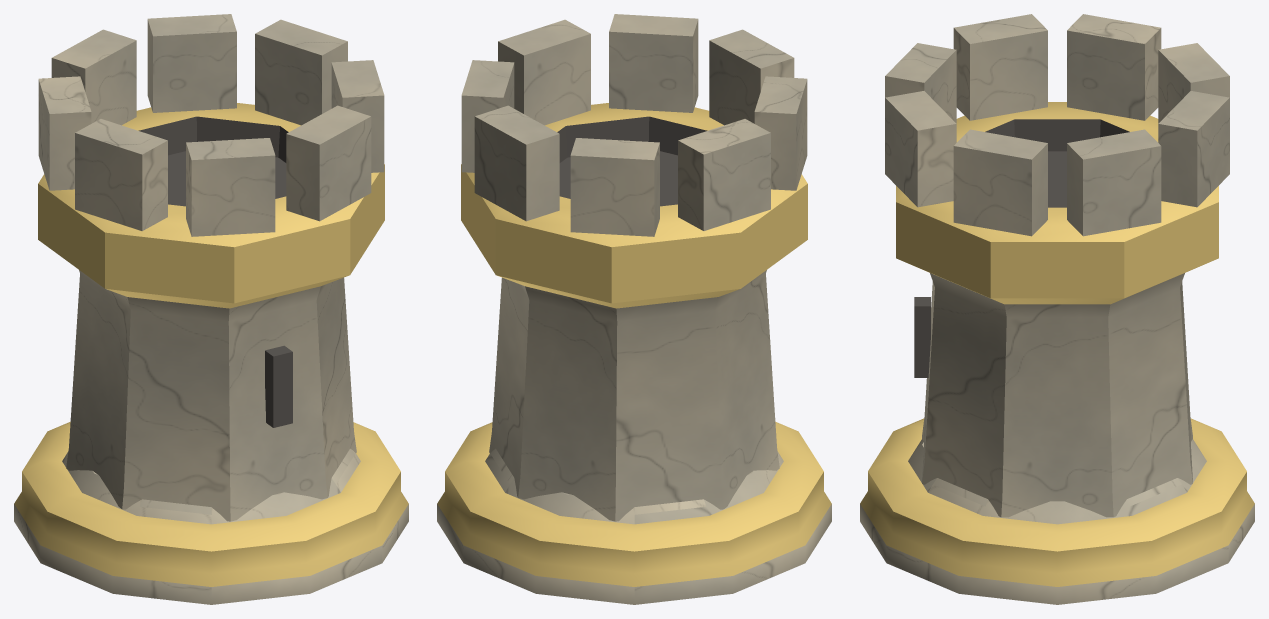
Rendered from rook_light_lod1.glb.
3 views of the same model, side by side, from view 1: azimuth 30°, elevation 25°; view 2: azimuth 150°, elevation 25°; view 3: azimuth 270°, elevation 25° (orthographic).
Parts seen in each view (by area): view 1: Piece_Rook_Light_Mesh; view 2: Piece_Rook_Light_Mesh; view 3: Piece_Rook_Light_Mesh.
Part boxes in pixels (<box>): Piece_Rook_Light_Mesh: <box>14,14,408,604</box>; Piece_Rook_Light_Mesh: <box>437,14,831,604</box>; Piece_Rook_Light_Mesh: <box>860,14,1254,604</box>.
Bounding box in the file's own units: 0.7 × 0.85 × 0.7.
Materials: 3 (1 with a texture image).
